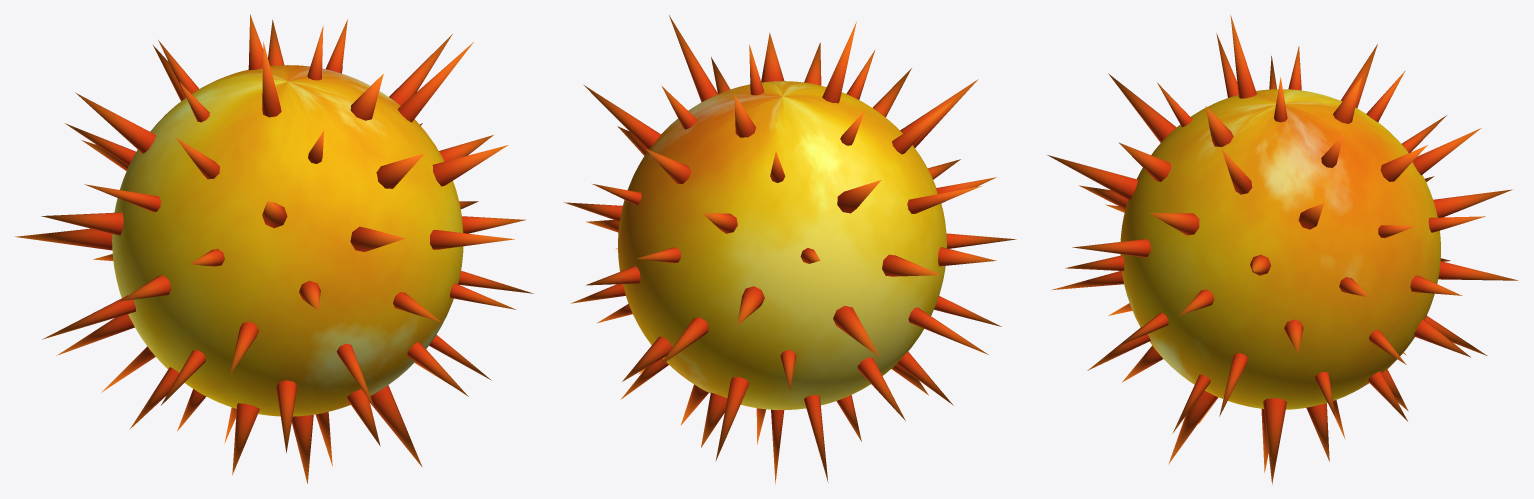
The model's file is sol.obj.
3 views of the same model, side by side, from view 1: azimuth 30°, elevation 25°; view 2: azimuth 150°, elevation 25°; view 3: azimuth 270°, elevation 25° (orthographic). The views are drawn at different scales.
Visible parts, largest first — view 1: Sol_esfera, Sol_rayos; view 2: Sol_esfera, Sol_rayos; view 3: Sol_esfera, Sol_rayos.
Part boxes in pixels (<box>): Sol_esfera: <box>112,65,463,416</box>; Sol_rayos: <box>15,14,533,483</box>; Sol_esfera: <box>618,81,946,409</box>; Sol_rayos: <box>564,15,1016,484</box>; Sol_esfera: <box>1120,89,1440,409</box>; Sol_rayos: <box>1047,15,1518,484</box>.
Size of the model in its own units: 2.94 by 2.9 by 2.95.
2 materials, 2 textured.
